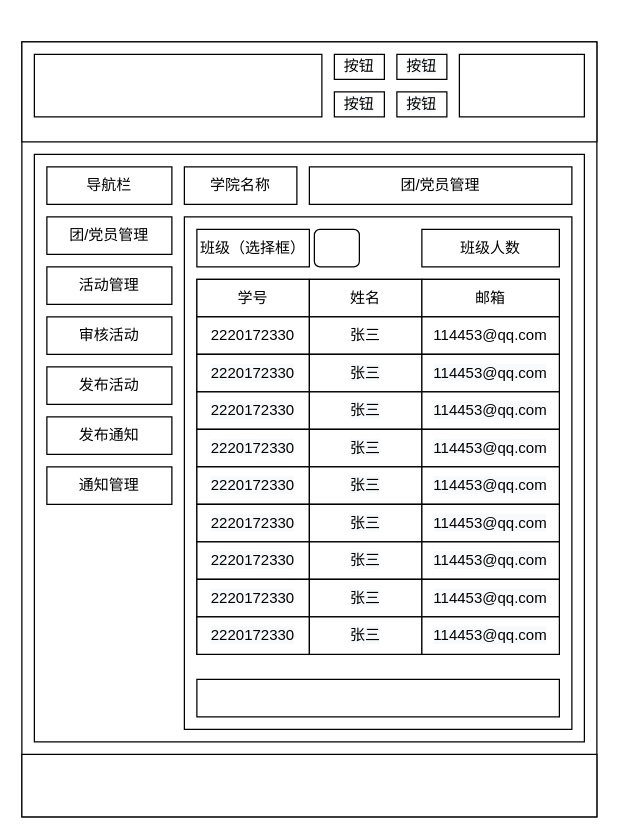
The diagram is 619 pixels wide and 839 high, and some of its shapes have lost their labels. Here are the shapes that lost their labels. From the top down, the centre of each, then its label:
At point 177,85: "网站标题（文字+图片）".
At point 521,85: "当前登录学生信息显示（跳转主页）".
At point 336,247: "搜索".
At point 377,697: "分页页码".
At point 309,785: "底部导航栏&联系发邮件".
